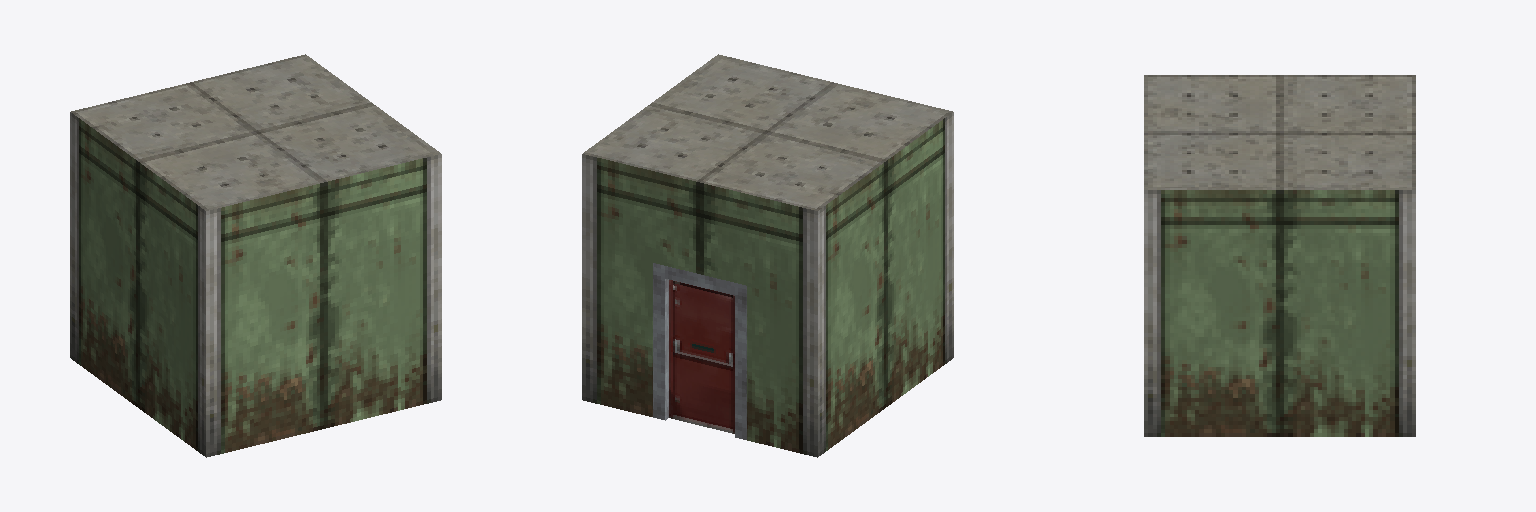
3 views of the same model, side by side, from view 1: azimuth 30°, elevation 25°; view 2: azimuth 150°, elevation 25°; view 3: azimuth 270°, elevation 25° (orthographic).
Parts seen in each view (by area): view 1: wallB_door; view 2: wallB_door; view 3: wallB_door.
Part boxes in pixels (left/top/right/bottom): wallB_door: left=70, top=54, right=441, bottom=457; wallB_door: left=582, top=54, right=953, bottom=457; wallB_door: left=1144, top=75, right=1415, bottom=436.
Bounding box in the file's own units: 1 × 1 × 1.
Materials: 4 (4 with a texture image).